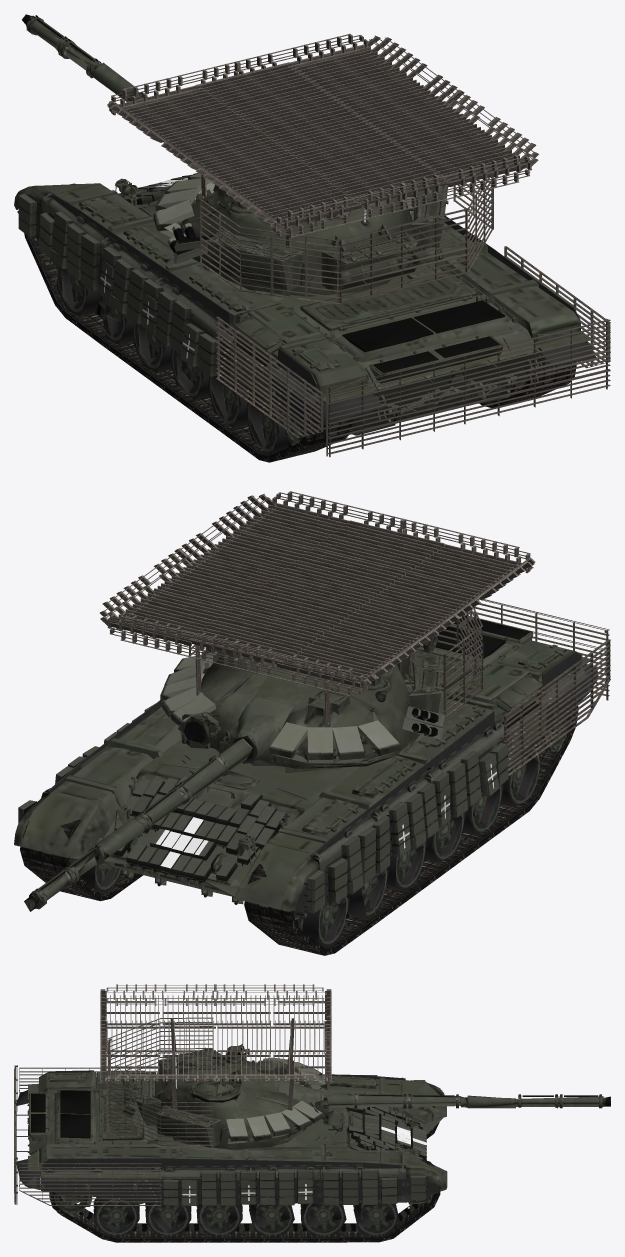
3 views of the same model, one above another, from view 1: azimuth 30°, elevation 25°; view 2: azimuth 150°, elevation 25°; view 3: azimuth 270°, elevation 25° (orthographic). The views are drawn at different scales.
Parts seen in each view (by area): view 1: Object_15, Object_14, Object_4, Object_16, Object_10, Object_12, Object_18, Object_17, Object_6, Object_5; view 2: Object_15, Object_14, Object_4, Object_10, Object_12, Object_5, Object_6, Object_16, Object_17, Object_18, Object_13, Object_2; view 3: Object_4, Object_14, Object_15, Object_10, Object_12, Object_17, Object_16, Object_5, Object_18, Object_6, Object_13.
Part boxes in pixels (x1=…): Object_15: x1=107, y1=33, x2=538, y2=304; Object_14: x1=36, y1=178, x2=589, y2=435; Object_4: x1=17, y1=173, x2=596, y2=425; Object_16: x1=215, y1=246, x2=610, y2=457; Object_10: x1=176, y1=185, x2=448, y2=296; Object_12: x1=24, y1=183, x2=576, y2=462; Object_18: x1=170, y1=349, x2=301, y2=454; Object_17: x1=56, y1=266, x2=573, y2=448; Object_6: x1=153, y1=173, x2=414, y2=263; Object_5: x1=22, y1=14, x2=147, y2=101; Object_15: x1=100, y1=491, x2=535, y2=727; Object_14: x1=20, y1=615, x2=590, y2=909; Object_4: x1=18, y1=652, x2=598, y2=913; Object_10: x1=178, y1=636, x2=443, y2=768; Object_12: x1=20, y1=706, x2=578, y2=955; Object_5: x1=24, y1=696, x2=294, y2=911; Object_6: x1=160, y1=651, x2=445, y2=763; Object_16: x1=391, y1=583, x2=610, y2=775; Object_17: x1=69, y1=709, x2=573, y2=947; Object_18: x1=423, y1=746, x2=541, y2=862; Object_13: x1=14, y1=791, x2=319, y2=911; Object_2: x1=156, y1=817, x2=208, y2=868; Object_4: x1=16, y1=1070, x2=439, y2=1205; Object_14: x1=27, y1=1070, x2=447, y2=1185; Object_15: x1=100, y1=984, x2=331, y2=1145; Object_10: x1=121, y1=1045, x2=328, y2=1148; Object_12: x1=49, y1=1106, x2=440, y2=1242; Object_17: x1=54, y1=1192, x2=432, y2=1235; Object_16: x1=14, y1=1065, x2=161, y2=1205; Object_5: x1=278, y1=1079, x2=610, y2=1109; Object_18: x1=93, y1=1197, x2=242, y2=1235; Object_6: x1=226, y1=1044, x2=326, y2=1143; Object_13: x1=404, y1=1080, x2=447, y2=1191.
Bounding box in the file's own units: 4.05 × 3.15 × 10.02.
Materials: 10 (9 with a texture image).
